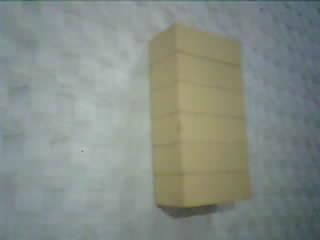lego: (146, 22, 251, 210)
